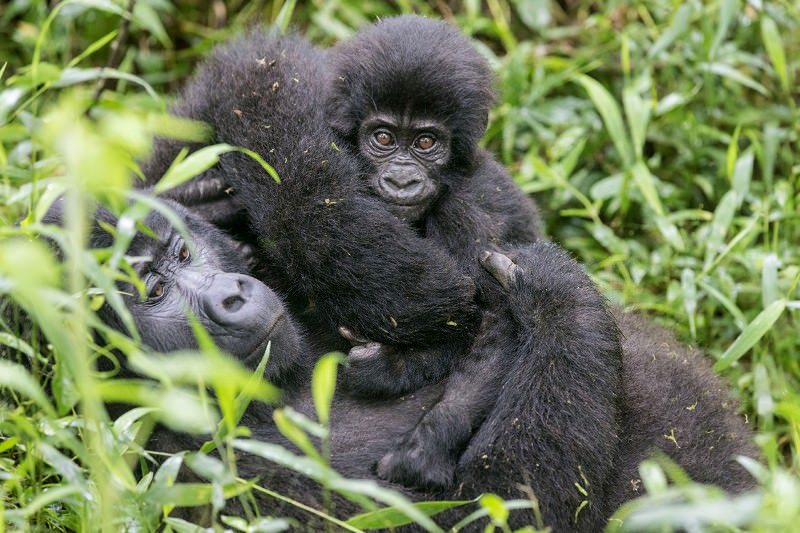Goriila: (70, 184, 382, 533), (330, 11, 544, 331)
